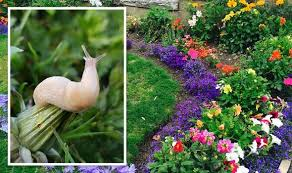slug: (30, 44, 108, 116)
